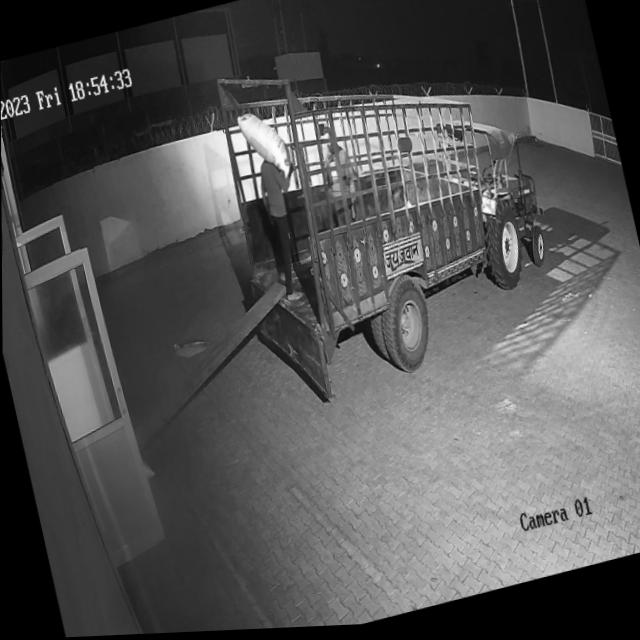sack: (235, 106, 294, 187)
